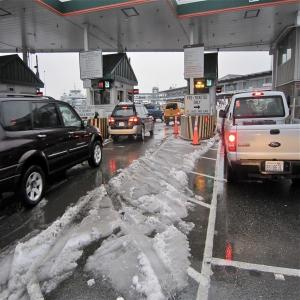Vehicle-registration-plate: (266, 162, 285, 173)
